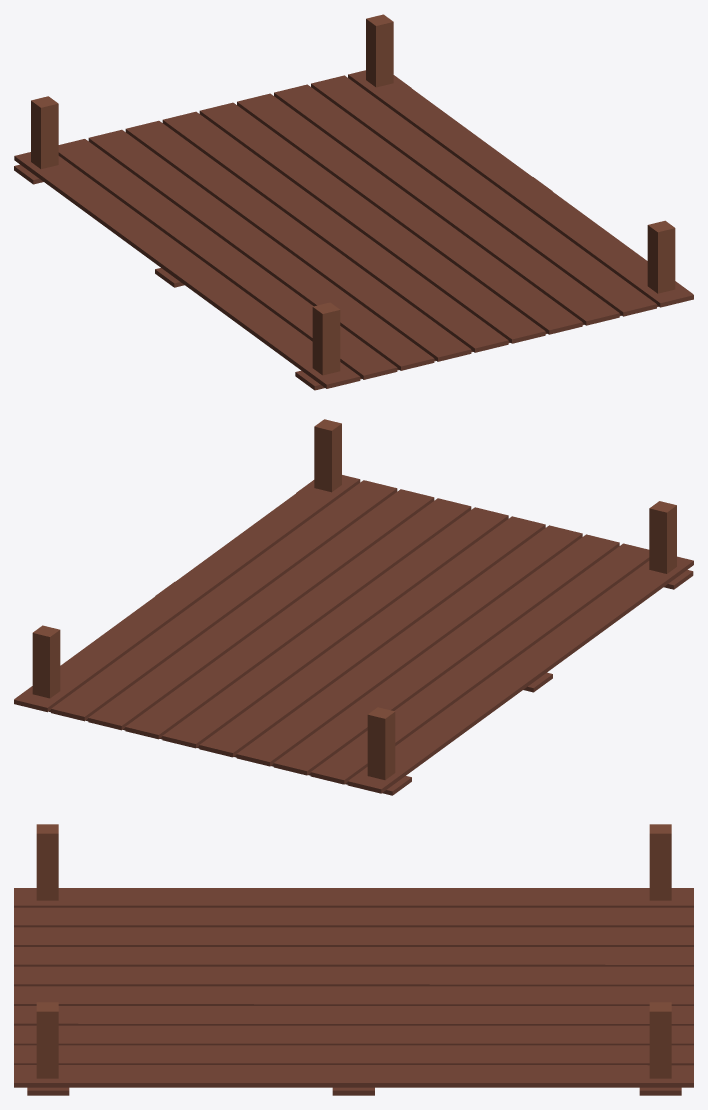
File: drope zone.fbx
3 views of the same model, one above another, from view 1: azimuth 30°, elevation 25°; view 2: azimuth 150°, elevation 25°; view 3: azimuth 270°, elevation 25° (orthographic). The views are drawn at different scales.
Parts seen in each view (by area): view 1: fish spot.002; view 2: fish spot.002; view 3: fish spot.002.
Boxes of the visible parts, bbox=[...] form: fish spot.002: bbox=[14, 14, 693, 390]; fish spot.002: bbox=[14, 419, 693, 795]; fish spot.002: bbox=[14, 824, 693, 1095].
Bounding box in the file's own units: 210 × 37.3 × 300.
